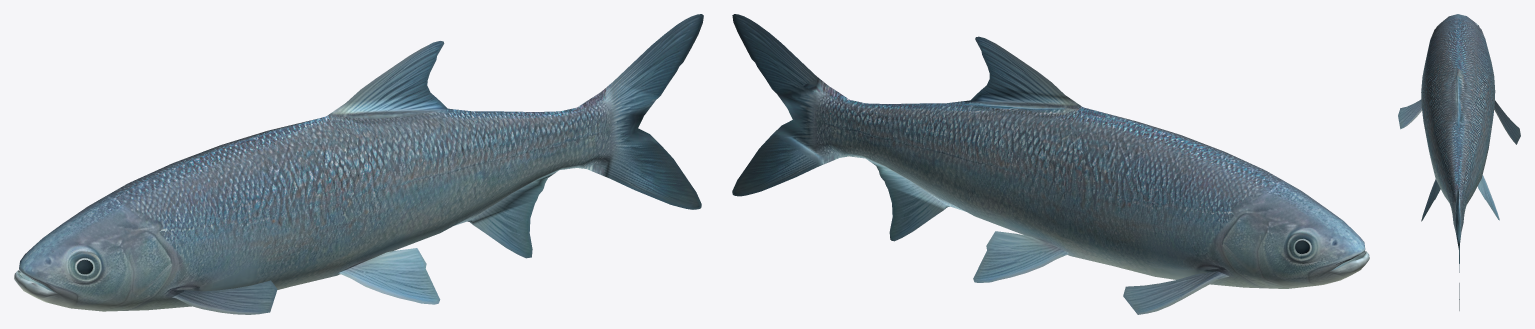
The model's file is songeo.glb.
3 views of the same model, side by side, from view 1: azimuth 30°, elevation 25°; view 2: azimuth 150°, elevation 25°; view 3: azimuth 270°, elevation 25° (orthographic). The views are drawn at different scales.
Parts seen in each view (by area): view 1: tripo_node_e82fad9d-a060-4919-87ec-bc12d989986a; view 2: tripo_node_e82fad9d-a060-4919-87ec-bc12d989986a; view 3: tripo_node_e82fad9d-a060-4919-87ec-bc12d989986a.
Part boxes in pixels (x1,y1,x2,y2): tripo_node_e82fad9d-a060-4919-87ec-bc12d989986a: (14,14,703,314); tripo_node_e82fad9d-a060-4919-87ec-bc12d989986a: (732,14,1369,314); tripo_node_e82fad9d-a060-4919-87ec-bc12d989986a: (1398,14,1520,310).
Bounding box in the file's own units: 0.9995 × 0.3364 × 0.231.
1 material, 1 textured.
